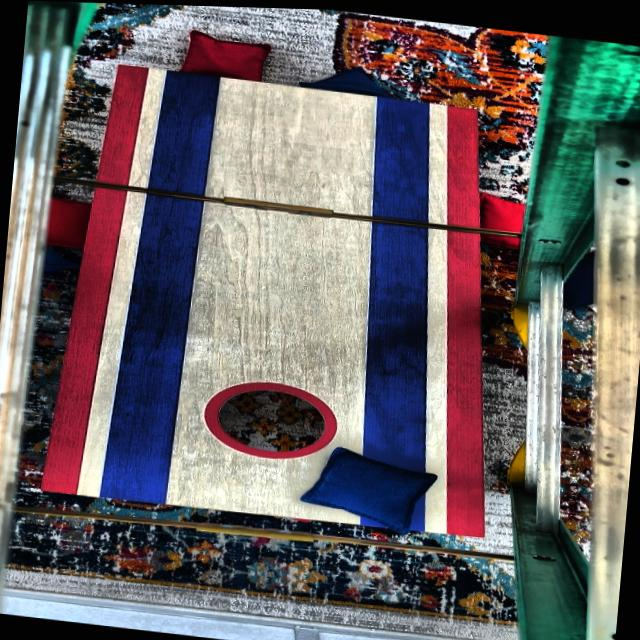blue-bean-bag: (297, 440, 438, 534), (296, 56, 399, 95), (560, 243, 596, 307), (42, 246, 77, 276)
board: (80, 65, 474, 532)
hole: (198, 373, 340, 464)
red-bean-bag: (180, 27, 272, 81), (474, 190, 526, 247), (46, 196, 91, 248)
